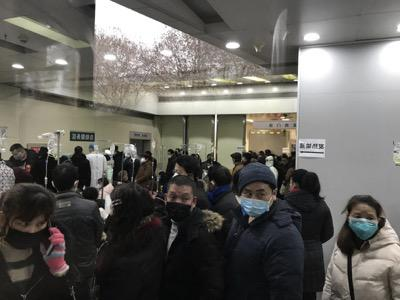with_mask: (5, 217, 50, 251), (239, 187, 271, 219), (347, 211, 379, 242), (166, 189, 192, 223), (11, 151, 23, 162), (140, 156, 145, 165), (239, 156, 245, 163), (96, 182, 101, 190), (166, 153, 171, 159)
without_mask: (281, 158, 288, 166)
